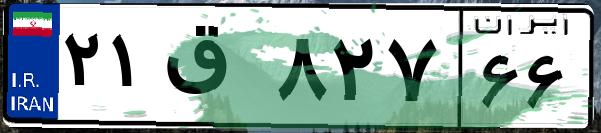1: (110, 28, 158, 98)
2: (330, 28, 385, 110), (57, 26, 110, 100)
6: (475, 38, 525, 113), (525, 38, 570, 115)
7: (385, 28, 445, 110)
8: (270, 28, 330, 110)
ق: (158, 20, 270, 120)
